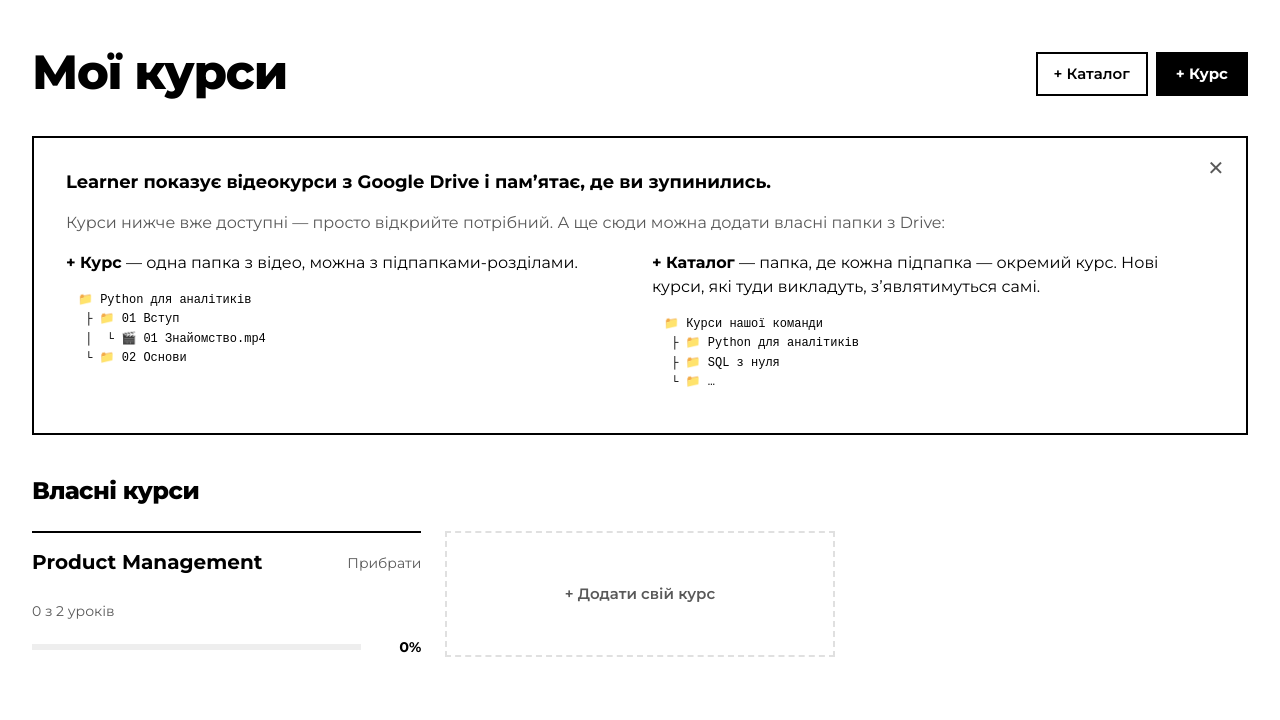
Test case: LibraryPage › «+ Каталог» відкриває діалог каталогу
Click the button "+ Каталог" at x=1092, y=74, box [1036,52,1148,96]
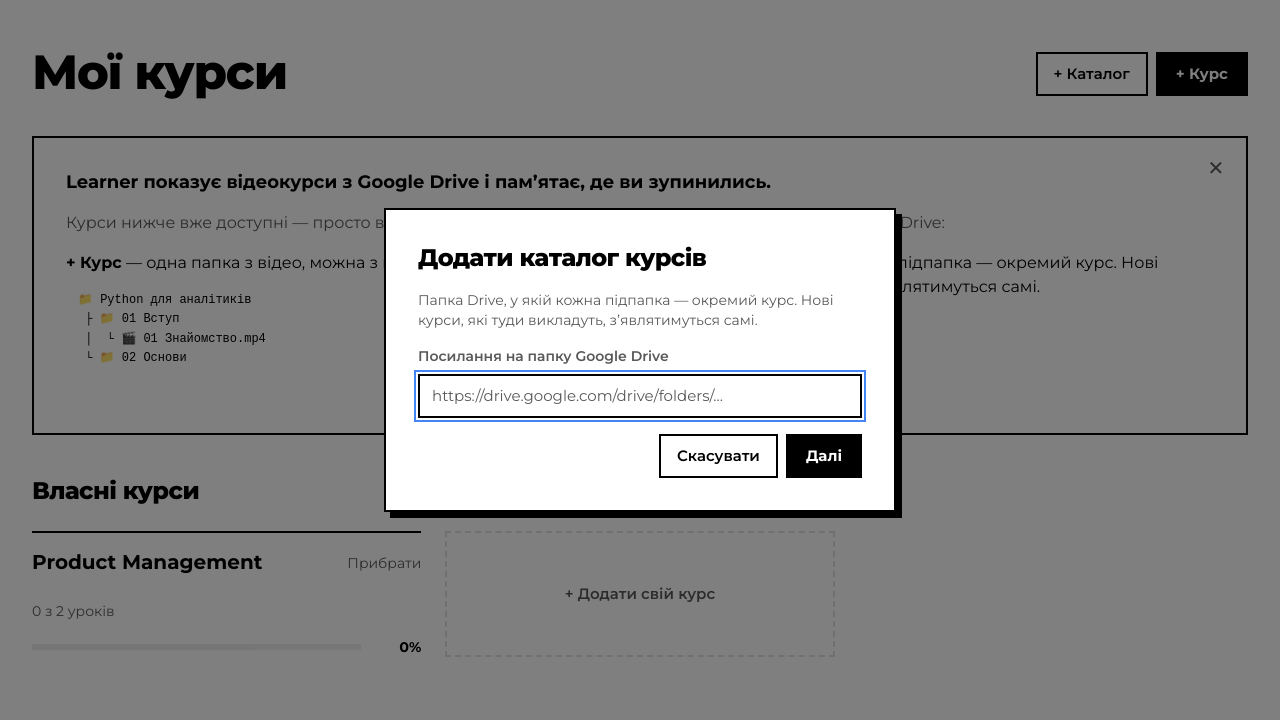
Expected: the dialog "Додати каталог курсів" is shown, [384,208,896,512]
